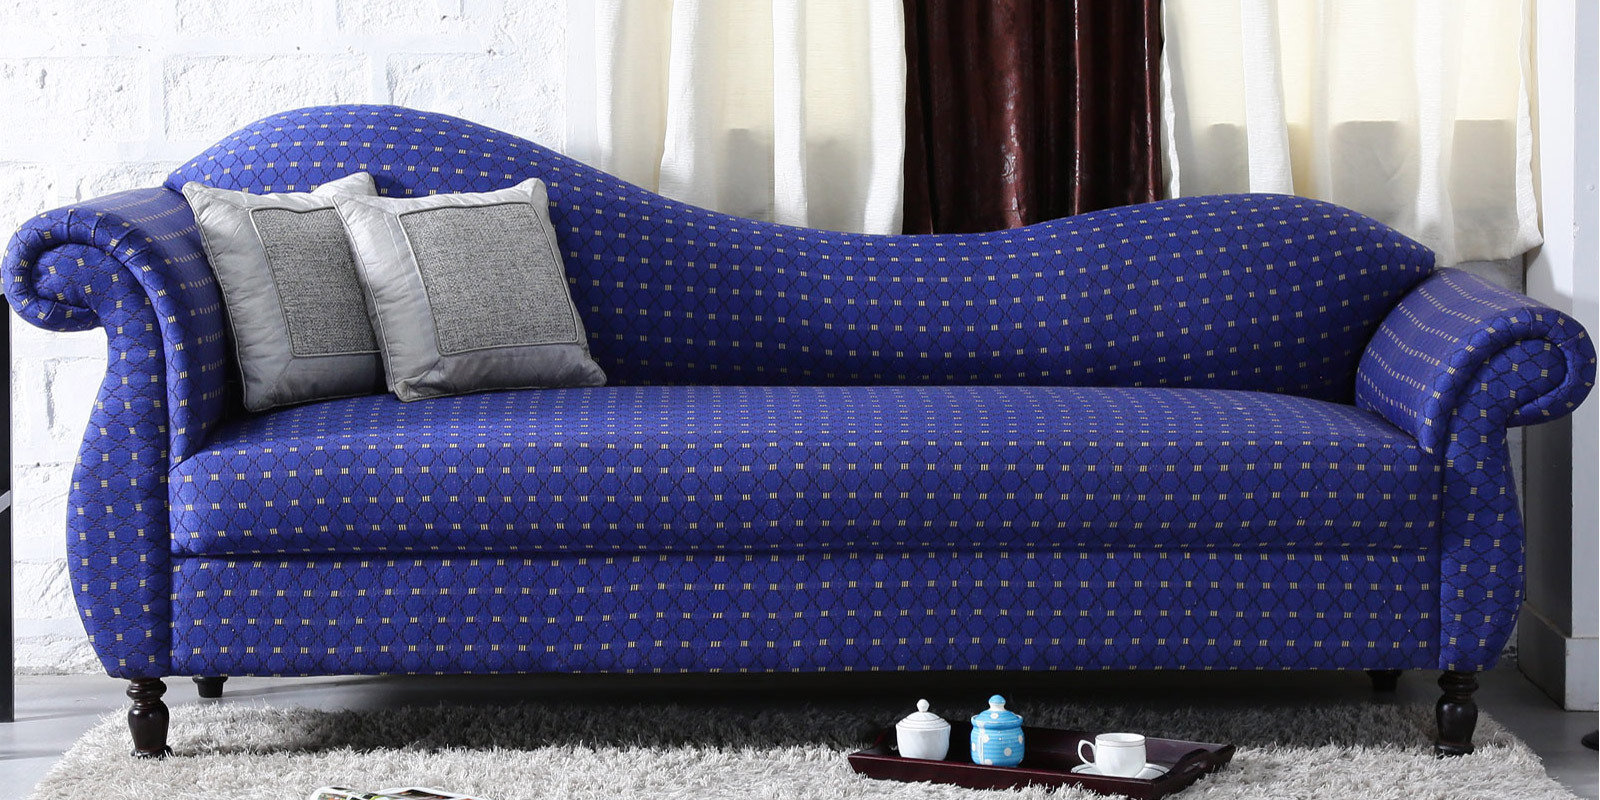Bayley Three Seater Sofa in Blue Color by Amberville: (2, 96, 1585, 784)
